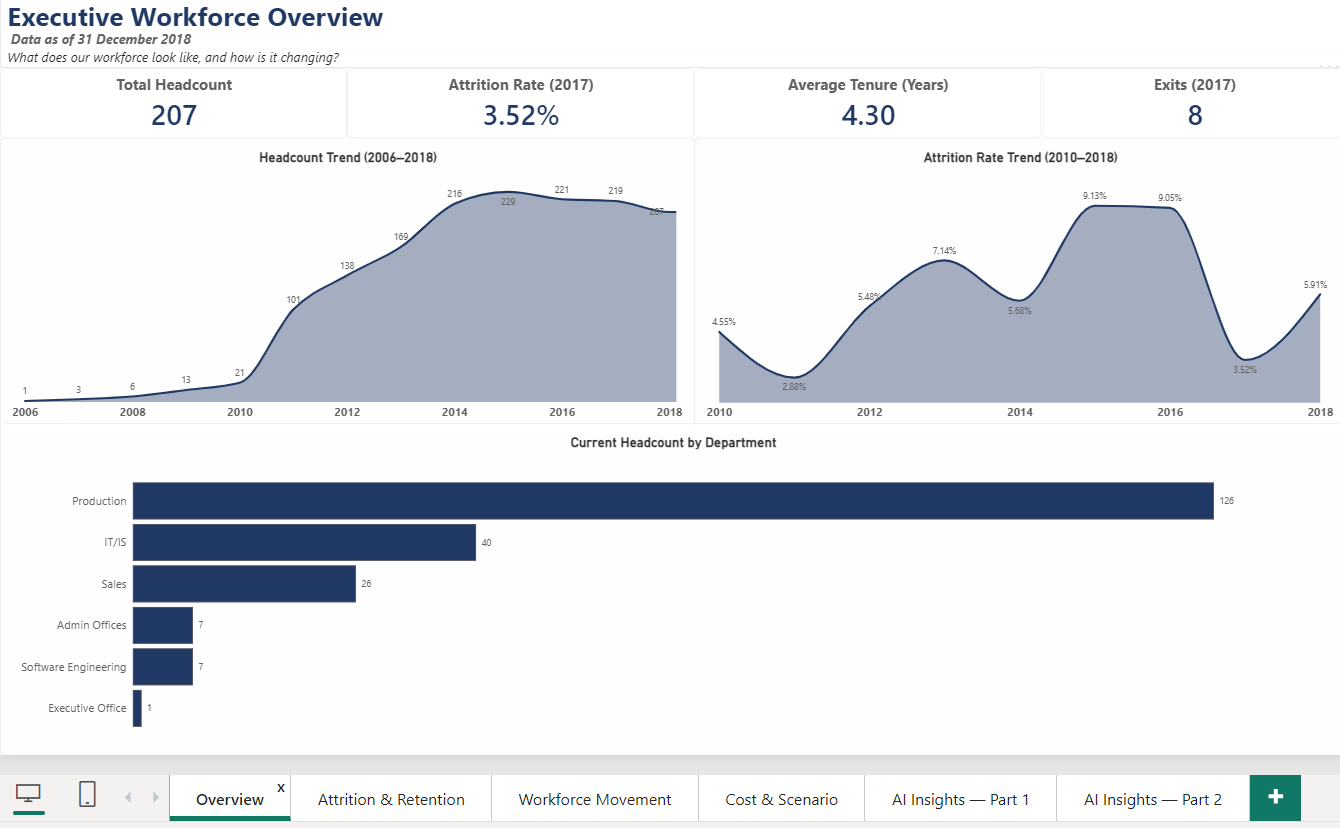

The page's visual inventory and layout, read from the dashboard file:
{"tool":"powerbi","page":{"name":"Overview","canvas":[1920,1080],"ordinal":0},"visuals":[{"type":"group","id":"g1","title":"Group 1","box":[0,0,1920.8,100.2],"z":0},{"type":"textbox","box":[0,0,1920.8,73.6],"z":0,"group":"g1"},{"type":"textbox","box":[0,45.4,1920.8,54.8],"z":1000,"group":"g1"},{"type":"cardVisual","fields":{"Data":["HRDataset_v14.Total Headcount"]},"box":[0,100.2,495,100],"z":1000,"group":"g2"},{"type":"areaChart","title":"Headcount Trend (2006–2018)","fields":{"Category":["DimDate.Year"],"Y":["HRDataset_v14.Active Headcount (as of period end)"]},"box":[0,200.4,991.4,424.1],"z":1000},{"type":"cardVisual","fields":{"Data":["HRDataset_v14.Attrition Rate 2017"]},"box":[495.7,100.2,495,100],"z":2000,"group":"g2"},{"type":"areaChart","title":"Attrition Rate Trend (2010–2018)","fields":{"Category":["DimDate.Year"],"Y":["HRDataset_v14.Attrition Rate"]},"box":[990.6,200.4,929.4,424.1],"z":2000},{"type":"cardVisual","fields":{"Data":["HRDataset_v14.Average Tenure (Years)"]},"box":[991.4,100.2,495,100],"z":3000,"group":"g2"},{"type":"clusteredBarChart","title":"Current Headcount by Department","fields":{"Category":["HRDataset_v14.Department"],"Y":["HRDataset_v14.Total Headcount"]},"box":[0,606.1,1920.8,474.4],"z":3000},{"type":"group","id":"g2","title":"Group 2","box":[0,100.2,1920.8,100.2],"z":4000},{"type":"cardVisual","fields":{"Data":["HRDataset_v14.Exits 2017"]},"box":[1487.1,100.2,433.7,100.7],"z":4000,"group":"g2"}]}

Visuals, with their boxes on the page's 1920x1080 design canvas (x1, y1, x2, y2). These are canvas units, not pixel positions in the 1340x828 screenshot, which may show the page scaled, cropped or inside an application window:
"Group 1" group: <region>0, 0, 1921, 100</region>
textbox: <region>0, 0, 1921, 74</region>
textbox: <region>0, 45, 1921, 100</region>
cardVisual - HRDataset_v14.Total Headcount: <region>0, 100, 495, 200</region>
"Headcount Trend (2006–2018)" areaChart: <region>0, 200, 991, 624</region>
cardVisual - HRDataset_v14.Attrition Rate 2017: <region>496, 100, 991, 200</region>
"Attrition Rate Trend (2010–2018)" areaChart: <region>991, 200, 1920, 624</region>
cardVisual - HRDataset_v14.Average Tenure (Years): <region>991, 100, 1486, 200</region>
"Current Headcount by Department" clusteredBarChart: <region>0, 606, 1921, 1080</region>
"Group 2" group: <region>0, 100, 1921, 200</region>
cardVisual - HRDataset_v14.Exits 2017: <region>1487, 100, 1921, 201</region>
